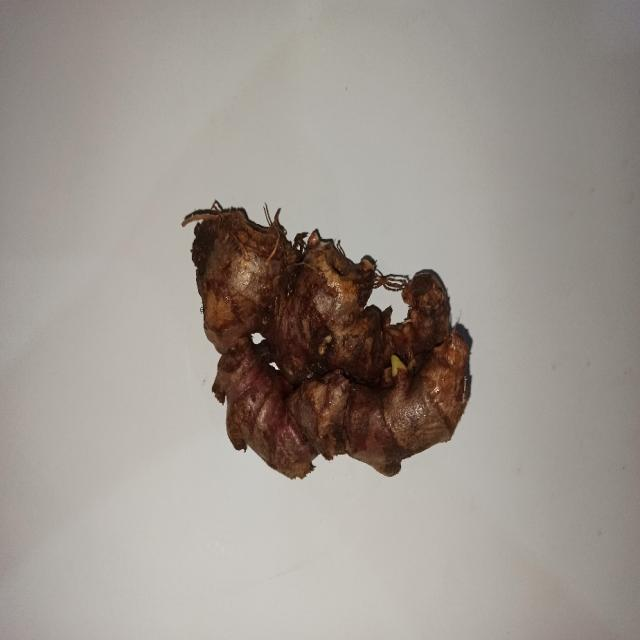ginger: (192, 205, 472, 476)
